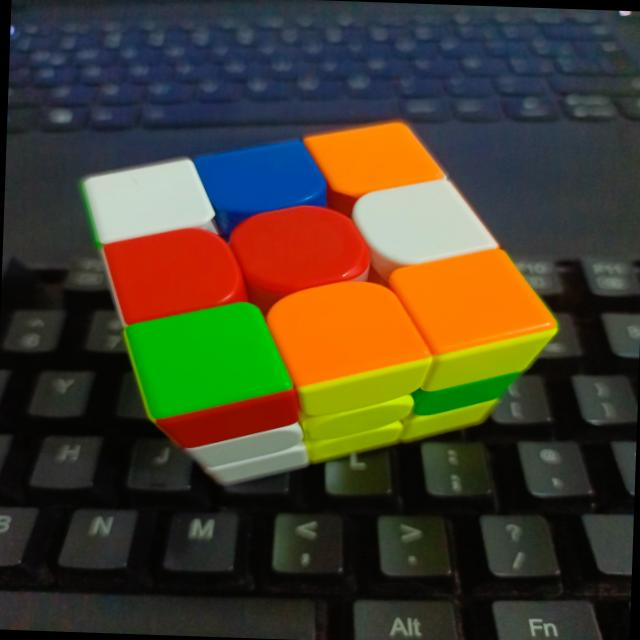rubik: (67, 106, 567, 496)
